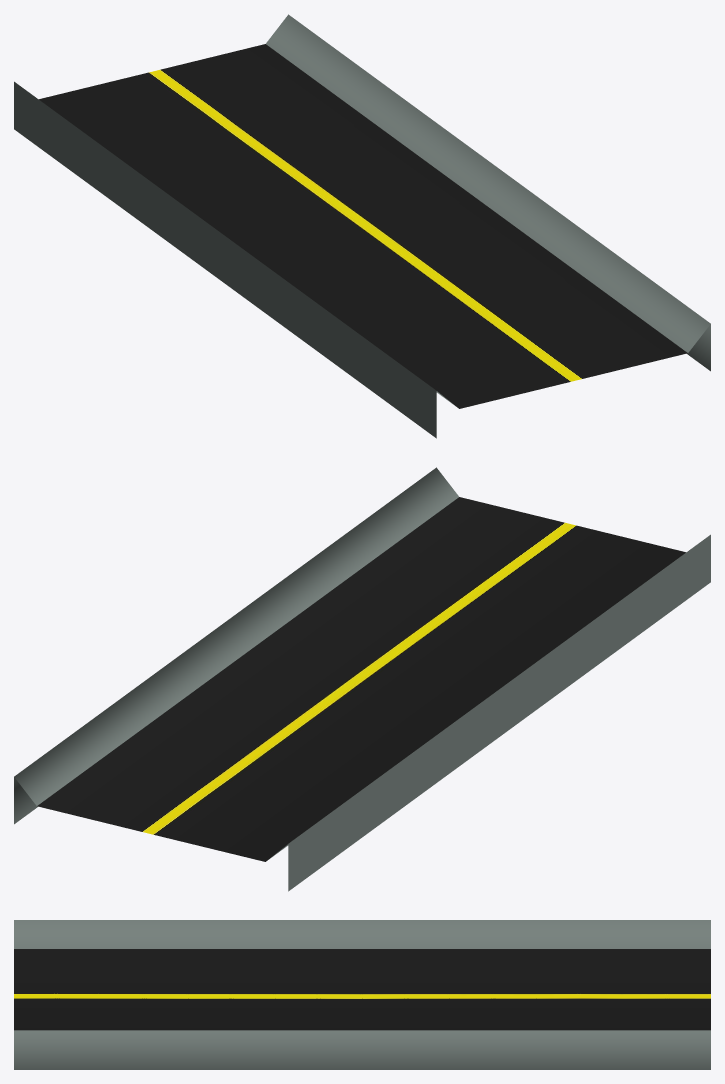
Rendered from lane_straight_32.fbx.
3 views of the same model, one above another, from view 1: azimuth 30°, elevation 25°; view 2: azimuth 150°, elevation 25°; view 3: azimuth 270°, elevation 25° (orthographic). The views are drawn at different scales.
Parts seen in each view (by area): view 1: lane_straight_32_01; view 2: lane_straight_32_01; view 3: lane_straight_32_01.
Part boxes in pixels (x1,y1,x2,y2): lane_straight_32_01: (14,14,710,438); lane_straight_32_01: (14,467,710,891); lane_straight_32_01: (14,920,710,1069).
Bounding box in the file's own units: 24 × 4 × 64.
